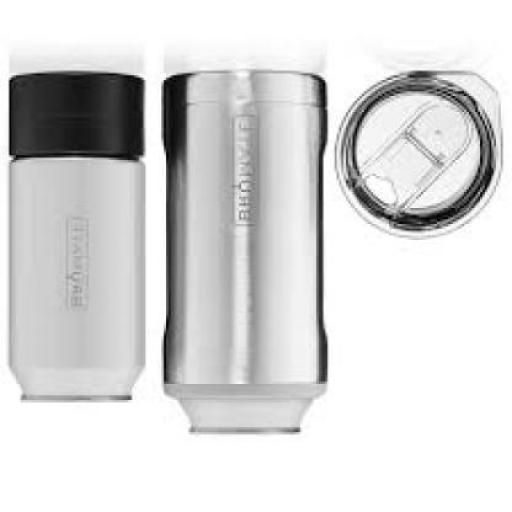metal: (161, 73, 330, 437), (4, 162, 144, 405), (335, 70, 498, 240)
